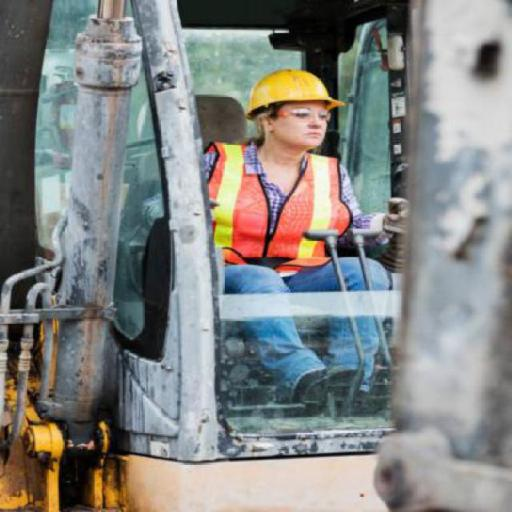glass: (265, 103, 336, 123)
hardhat: (238, 62, 354, 116)
person: (192, 58, 398, 401)
vest: (200, 140, 354, 274)
